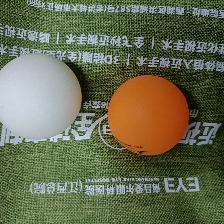WhiteBall: (0, 53, 82, 139)
YellowBall: (106, 73, 188, 156)
